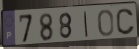7: (19, 14, 34, 44)
8: (38, 12, 54, 42), (58, 12, 74, 40)
C: (115, 8, 136, 36)
I: (83, 11, 89, 39)
O: (96, 9, 115, 38)
